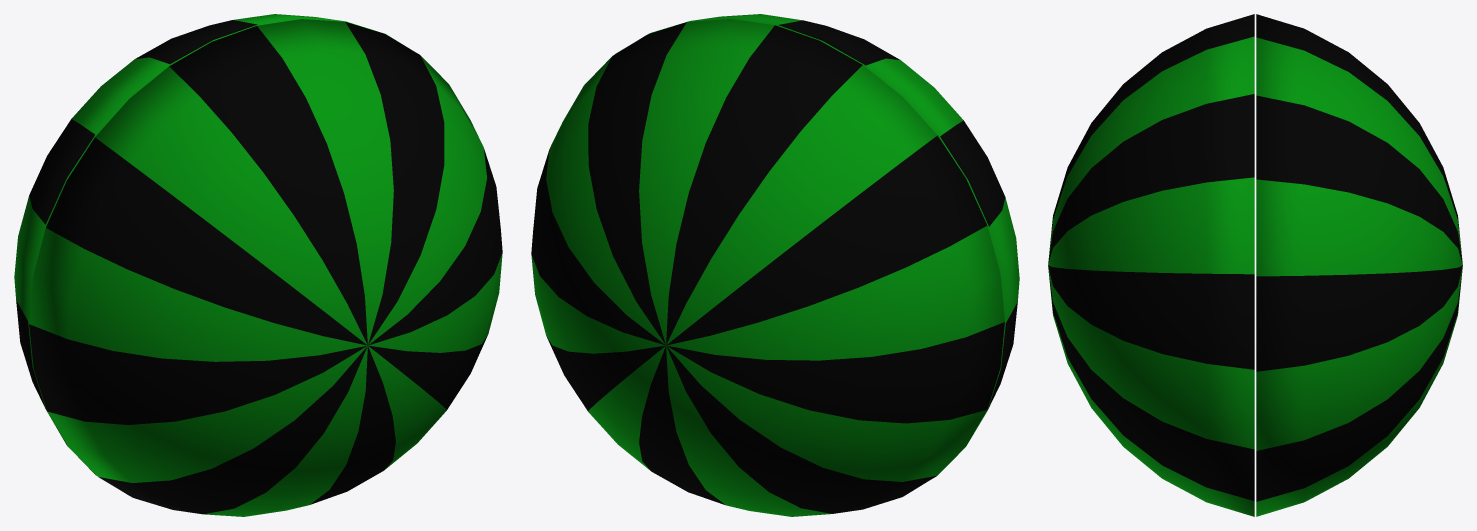
File: WaterMeron 1.fbx
The picture shows the model from 3 angles, left to right: view 1: azimuth 30°, elevation 25°; view 2: azimuth 150°, elevation 25°; view 3: azimuth 270°, elevation 25°; orthographic projection. The views are drawn at different scales.
Visible parts, largest first — view 1: body, body.001; view 2: body.001, body; view 3: body, body.001.
Boxes of the visible parts, x1,y1,x2,y2 form: body: (29,19,502,516); body.001: (14,14,402,494); body.001: (531,19,1004,516); body: (615,14,1019,467); body: (1048,14,1254,516); body.001: (1256,14,1462,516).
Bounding box in the file's own units: 196 × 196 × 162.
